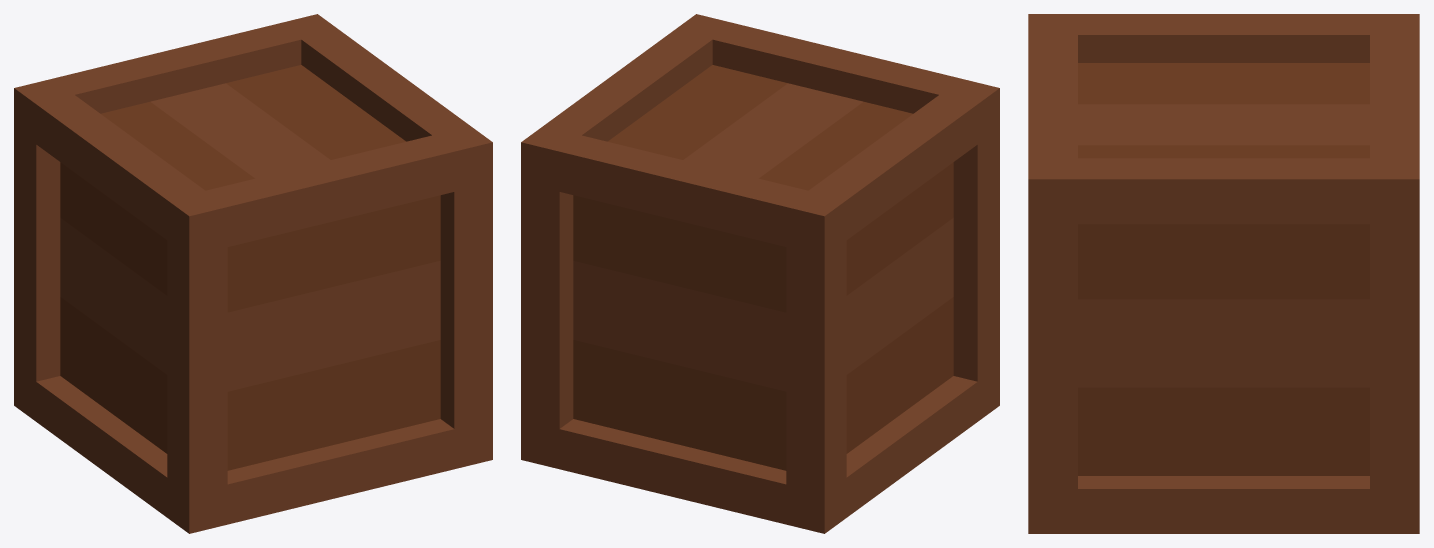
3 views of the same model, side by side, from view 1: azimuth 30°, elevation 25°; view 2: azimuth 150°, elevation 25°; view 3: azimuth 270°, elevation 25° (orthographic). The views are drawn at different scales.
Parts seen in each view (by area): view 1: Cube; view 2: Cube; view 3: Cube.
Part boxes in pixels (bbox=[...]): Cube: bbox=[14, 14, 492, 533]; Cube: bbox=[521, 14, 999, 533]; Cube: bbox=[1028, 14, 1419, 533].
Size of the model in its own units: 200 by 200 by 200.
